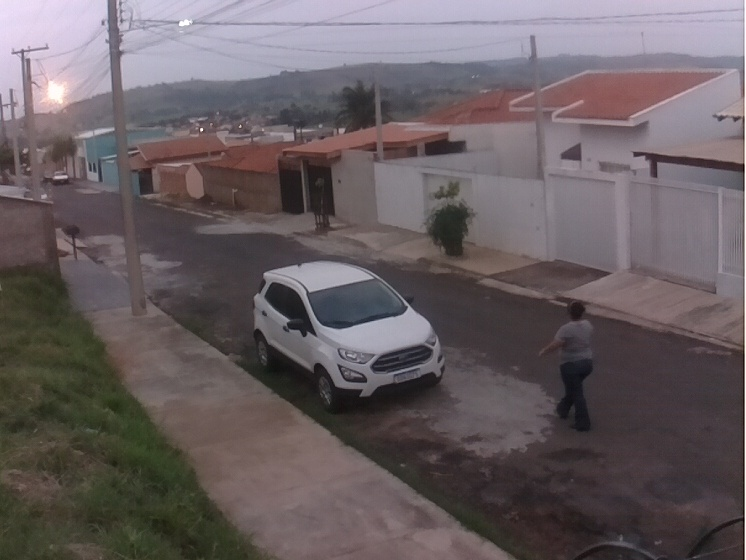person: (535, 299, 598, 431)
